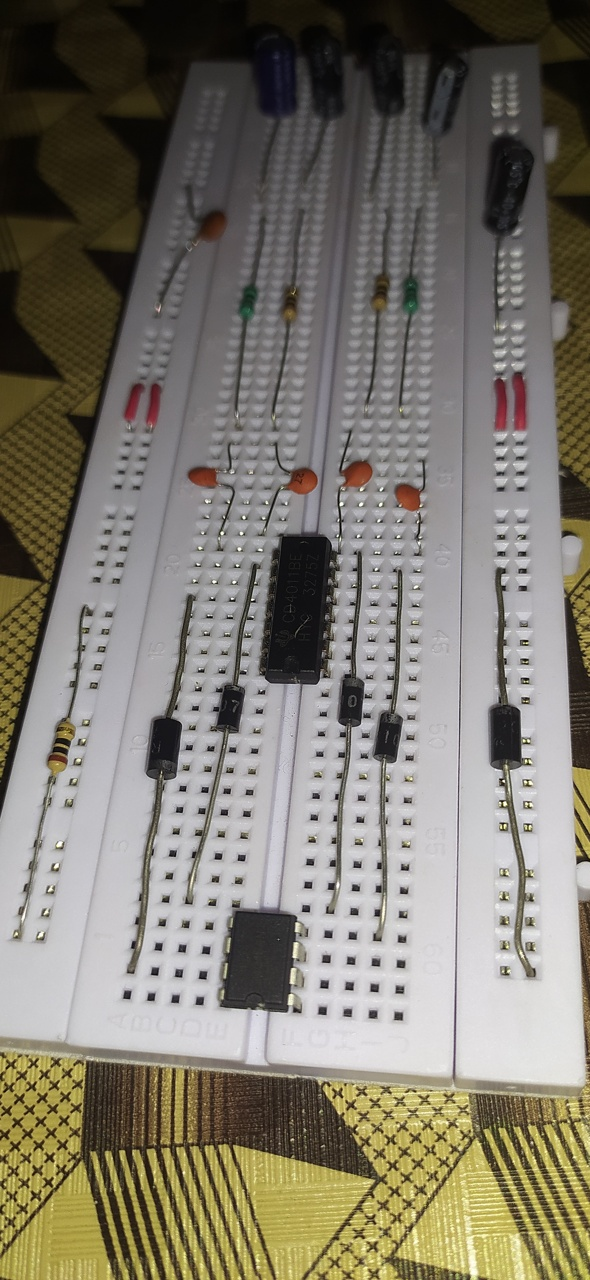capacitor: (480, 133, 534, 245), (427, 52, 475, 141), (253, 35, 303, 118), (193, 210, 228, 247), (282, 465, 317, 495), (344, 460, 376, 491), (391, 482, 424, 512), (189, 466, 224, 491)
resistor: (45, 718, 75, 774), (399, 276, 418, 315), (280, 283, 297, 324), (240, 285, 257, 318), (373, 274, 389, 309)
